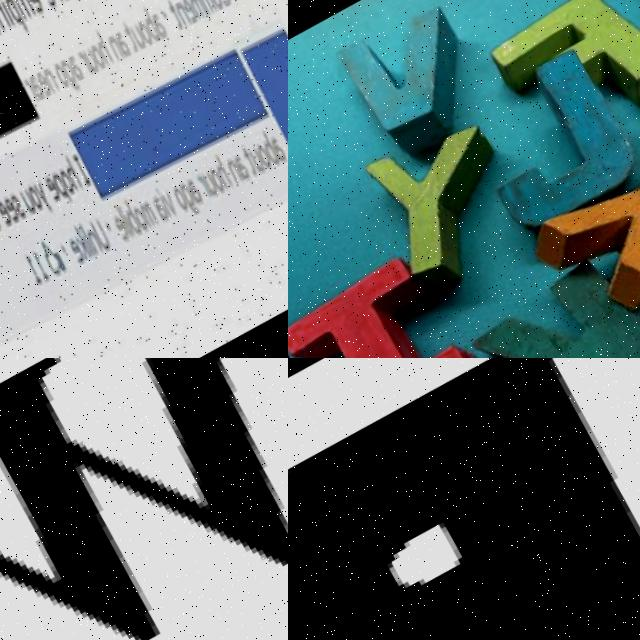1: (25, 247, 51, 281), (33, 244, 58, 277)
B: (288, 358, 640, 640)
F: (481, 0, 640, 145)
I: (288, 231, 505, 358)
K: (452, 232, 640, 358)
V: (325, 0, 494, 153)
W: (0, 358, 288, 640)
X: (513, 87, 640, 325)
Y: (343, 96, 549, 296)
